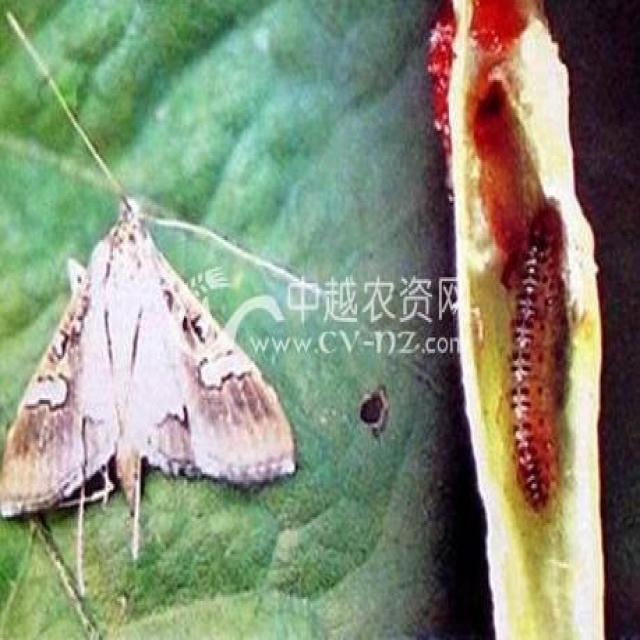peach borer: (2, 197, 315, 527), (513, 191, 582, 533)
